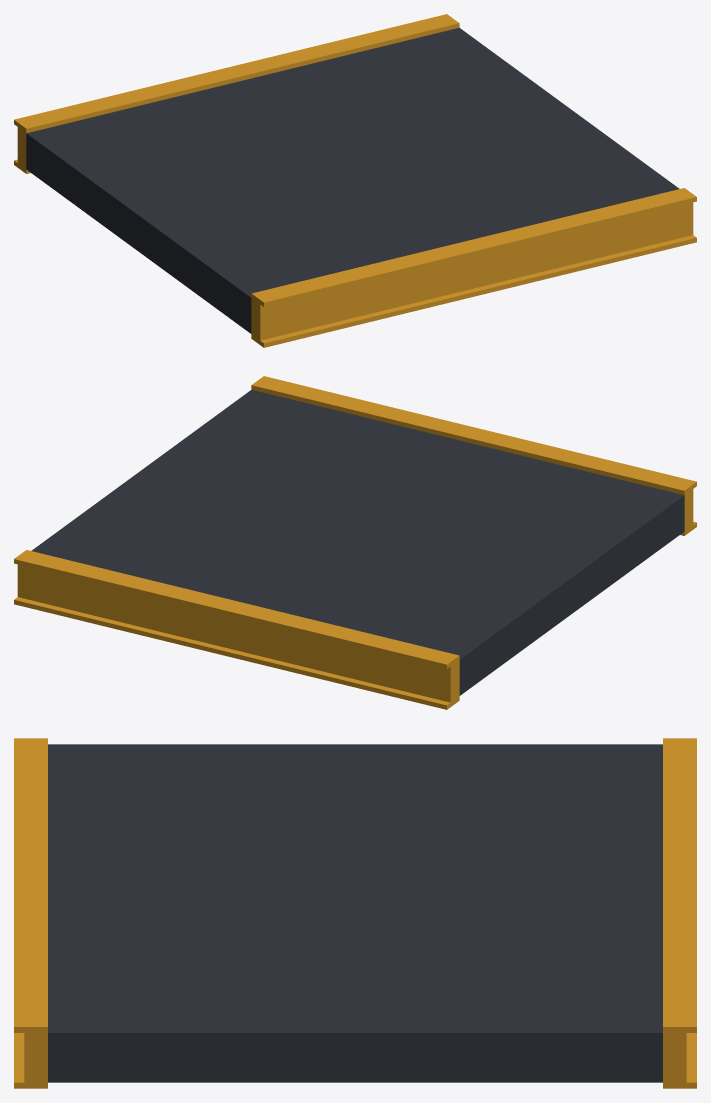
Rendered from Catwalk_2x2.fbx.
3 views of the same model, one above another, from view 1: azimuth 30°, elevation 25°; view 2: azimuth 150°, elevation 25°; view 3: azimuth 270°, elevation 25° (orthographic). The views are drawn at different scales.
Parts seen in each view (by area): view 1: Catwalk_2x2; view 2: Catwalk_2x2; view 3: Catwalk_2x2.
Boxes of the visible parts, bbox=[...] form: Catwalk_2x2: bbox=[14, 14, 696, 347]; Catwalk_2x2: bbox=[14, 376, 696, 709]; Catwalk_2x2: bbox=[14, 738, 696, 1088].
Bounding box in the file's own units: 200 × 20 × 200.
